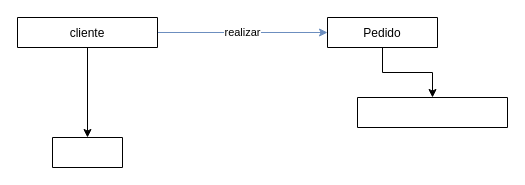
Some shapes in this 525 by 185 pixel diagram are drawn without their labels. Here are the shapes that lost their labels. From the top down, the centre of each, then its label:
At point 432,112: "Tamanho_pizza".
At point 87,152: "Bairro".
